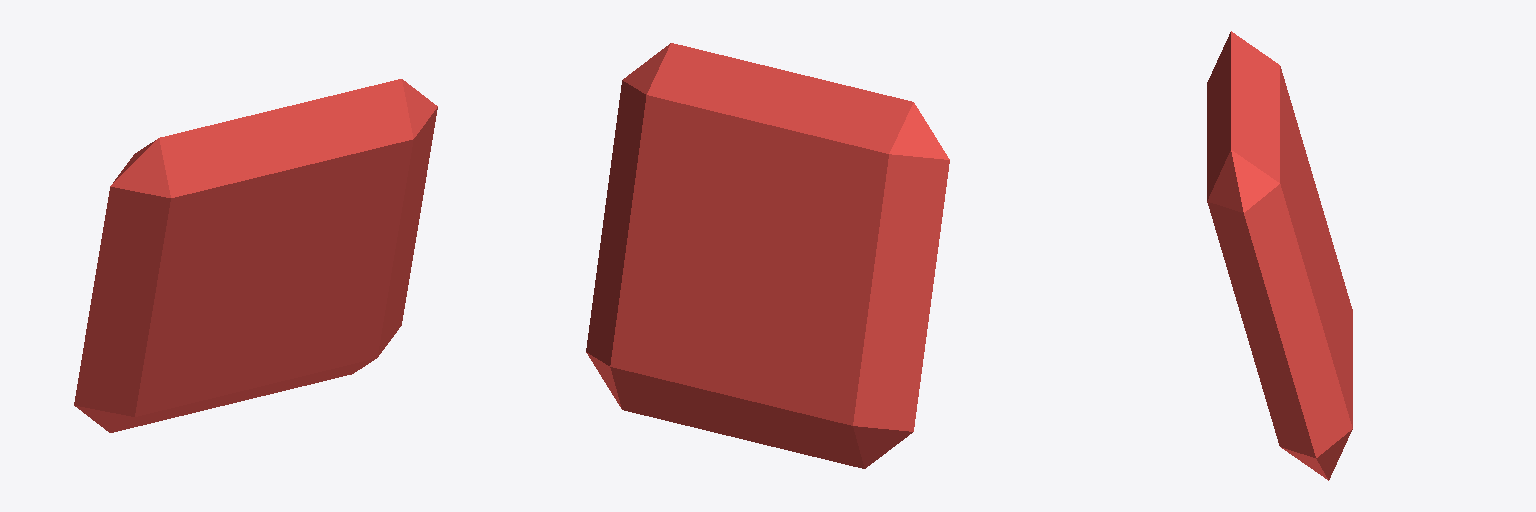
Rendered from pillow.obj.
3 views of the same model, side by side, from view 1: azimuth 30°, elevation 25°; view 2: azimuth 150°, elevation 25°; view 3: azimuth 270°, elevation 25° (orthographic).
Visible parts, largest first — view 1: pillow; view 2: pillow; view 3: pillow.
Boxes of the visible parts, <box> form: pillow: <box>74,79,437,432</box>; pillow: <box>586,43,949,468</box>; pillow: <box>1207,31,1352,480</box>.
Size of the model in its own units: 0.23 by 0.2222 by 0.0885.